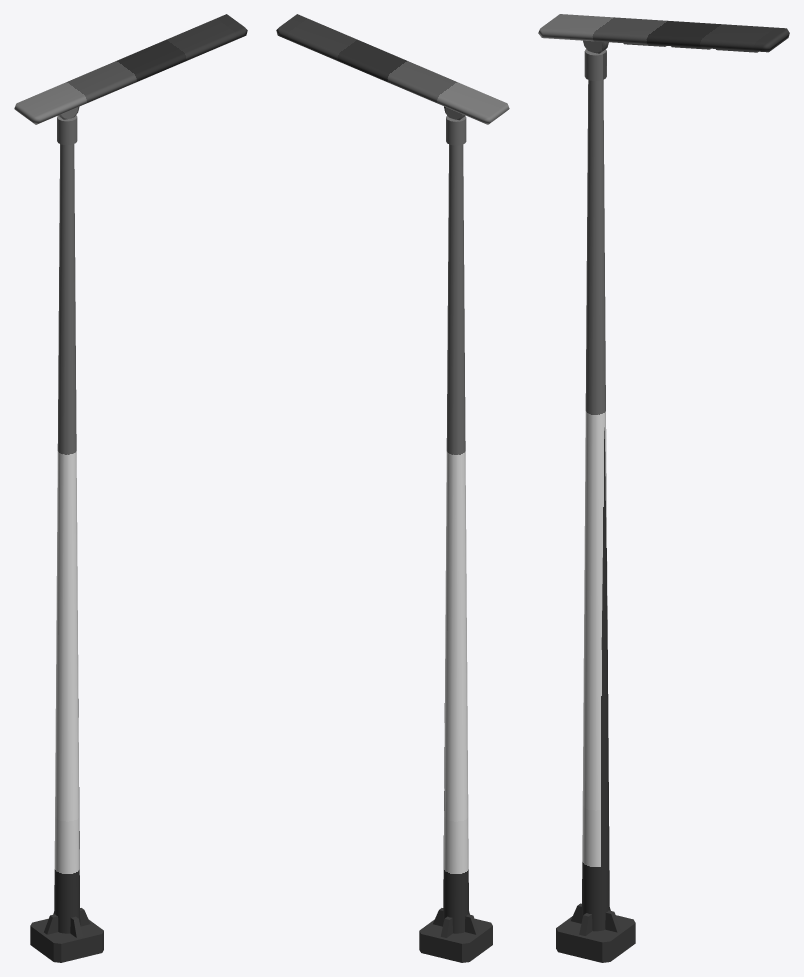
File: lamp.gltf
3 renders of one model, left to right at view 1: azimuth 30°, elevation 25°; view 2: azimuth 150°, elevation 25°; view 3: azimuth 330°, elevation 25°, orthographic. The views are drawn at different scales.
Visible parts, largest first — view 1: streetLights:lightColors.1479; view 2: streetLights:lightColors.1479; view 3: streetLights:lightColors.1479.
Part boxes in pixels (x1=…): streetLights:lightColors.1479: x1=14, y1=14, x2=247, y2=962; streetLights:lightColors.1479: x1=276, y1=14, x2=509, y2=962; streetLights:lightColors.1479: x1=538, y1=14, x2=789, y2=962.
Bounding box in the file's own units: 1.67 × 6.56 × 0.3907.
Materials: 1 (1 with a texture image).
